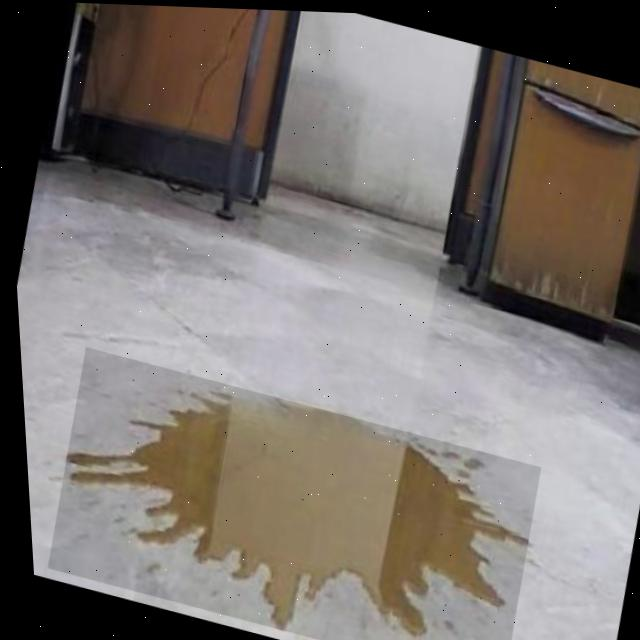spillage: (60, 397, 520, 634)
